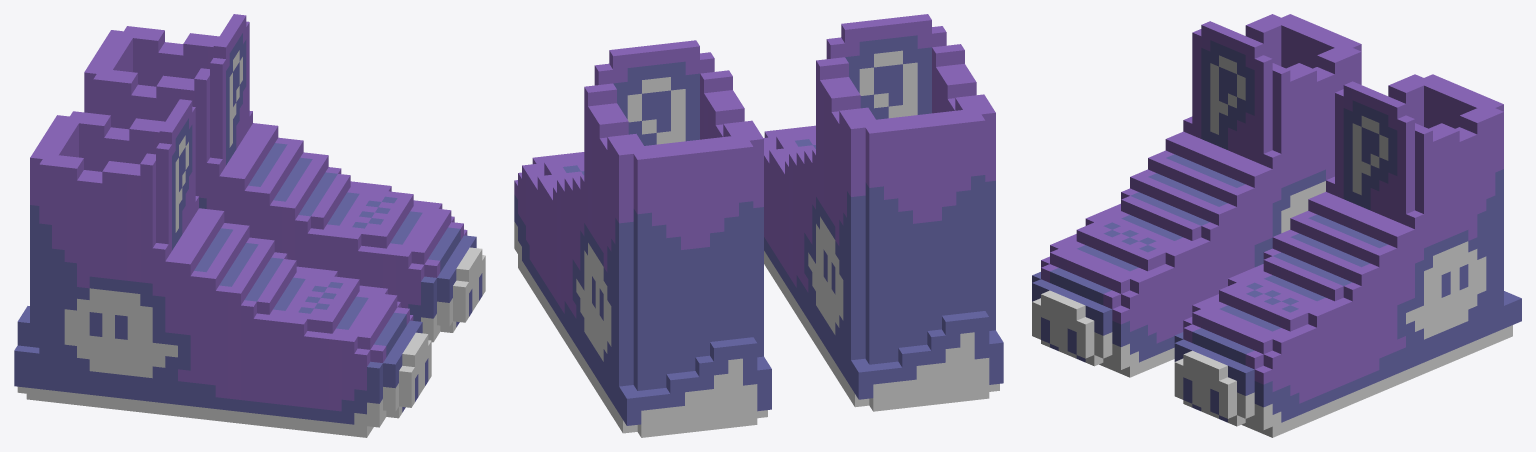
Rendered from shoe.glb.
3 views of the same model, side by side, from view 1: azimuth 30°, elevation 25°; view 2: azimuth 150°, elevation 25°; view 3: azimuth 270°, elevation 25° (orthographic). The views are drawn at different scales.
Size of the model in its own units: 38.89 by 23 by 38.89.
